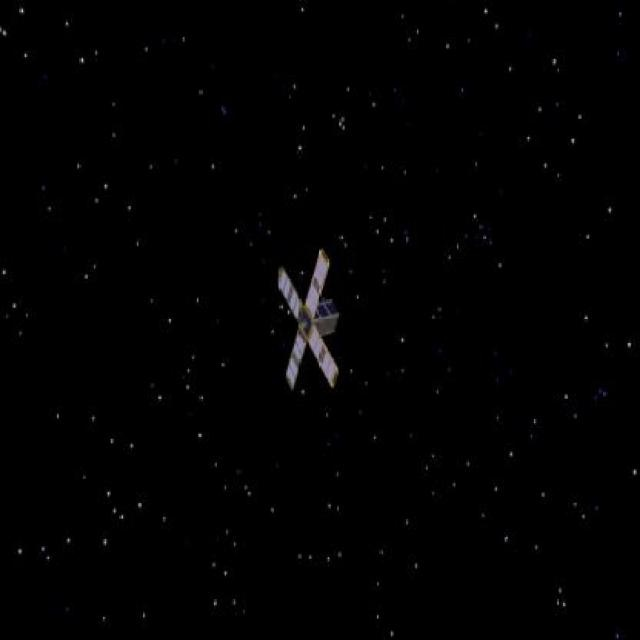medium_debris: (255, 252, 373, 388)
